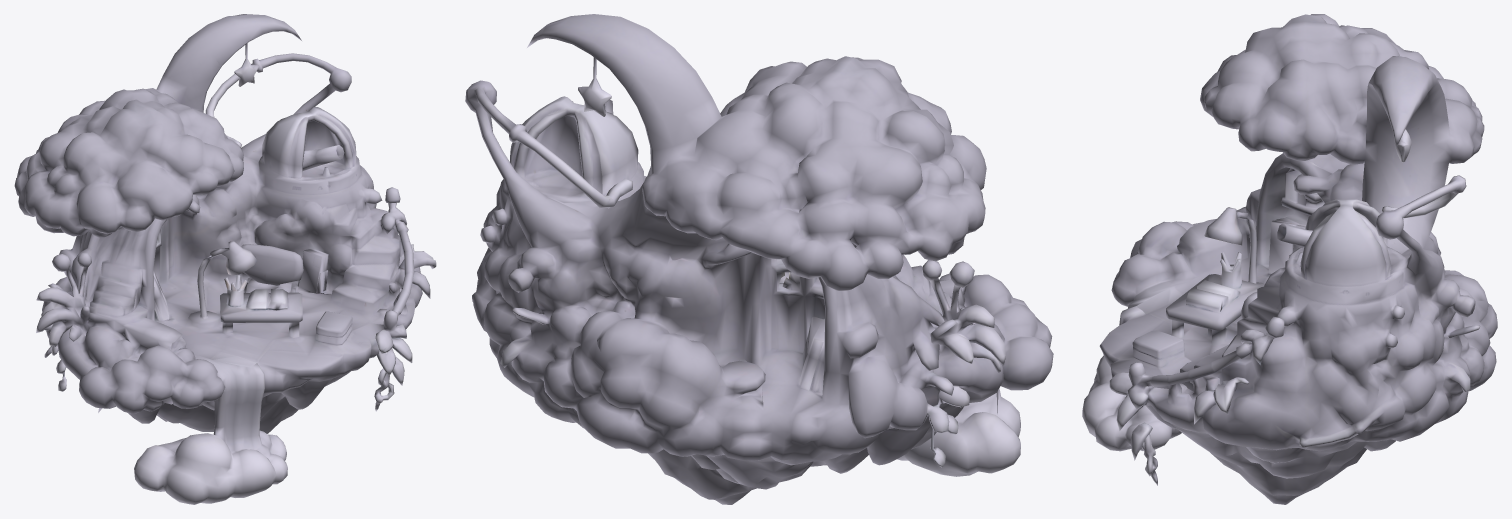
Rendered from 月光書原.glb.
3 views of the same model, side by side, from view 1: azimuth 30°, elevation 25°; view 2: azimuth 150°, elevation 25°; view 3: azimuth 270°, elevation 25° (orthographic). The views are drawn at different scales.
Visible parts, largest first — view 1: tripo_node_989b51b7-8f60-4e9e-9c6b-9c10c54f229b; view 2: tripo_node_989b51b7-8f60-4e9e-9c6b-9c10c54f229b; view 3: tripo_node_989b51b7-8f60-4e9e-9c6b-9c10c54f229b.
Part boxes in pixels (x1,y1,x2,y2): tripo_node_989b51b7-8f60-4e9e-9c6b-9c10c54f229b: (14,14,436,504); tripo_node_989b51b7-8f60-4e9e-9c6b-9c10c54f229b: (465,14,1053,504); tripo_node_989b51b7-8f60-4e9e-9c6b-9c10c54f229b: (1082,14,1497,504).
Bounding box in the file's own units: 0.9792 × 0.9638 × 0.7914.
1 material, 1 textured.
